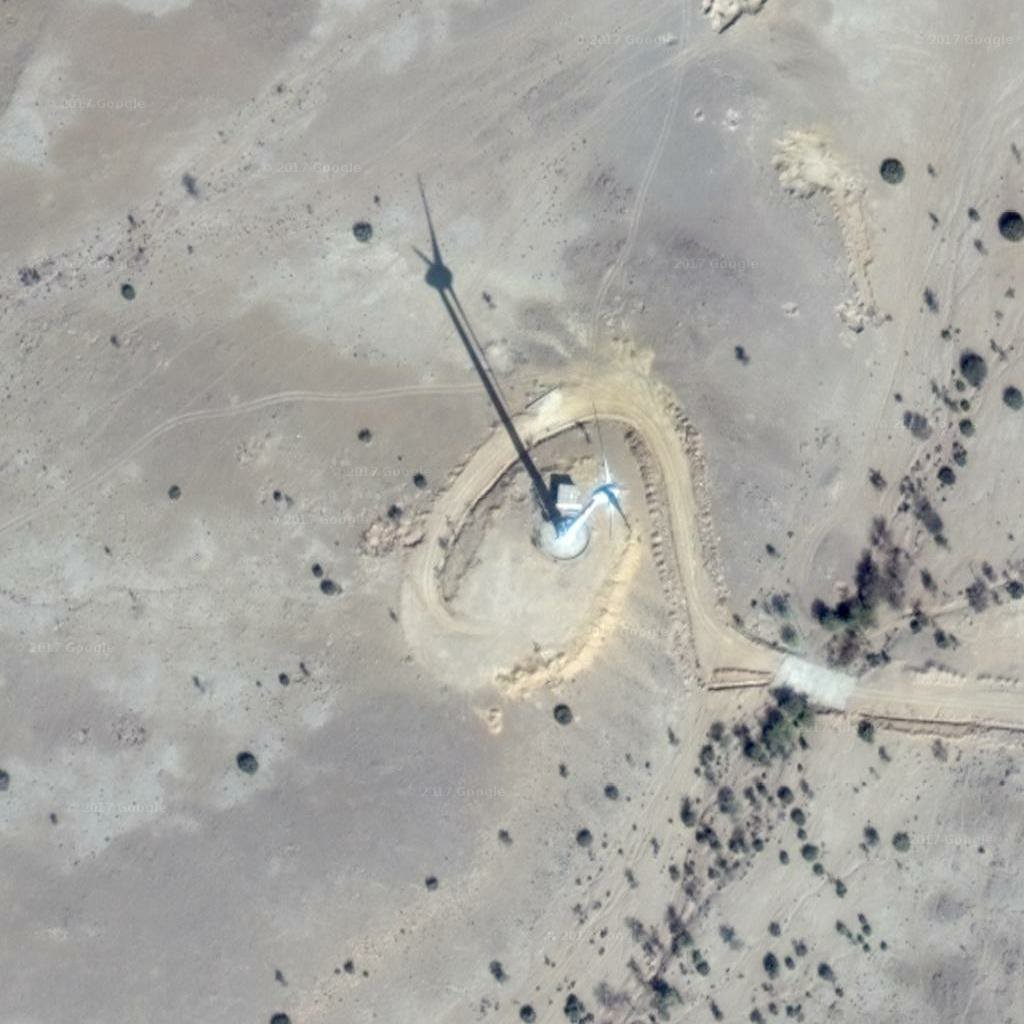Windmill: (397, 171, 577, 514)
